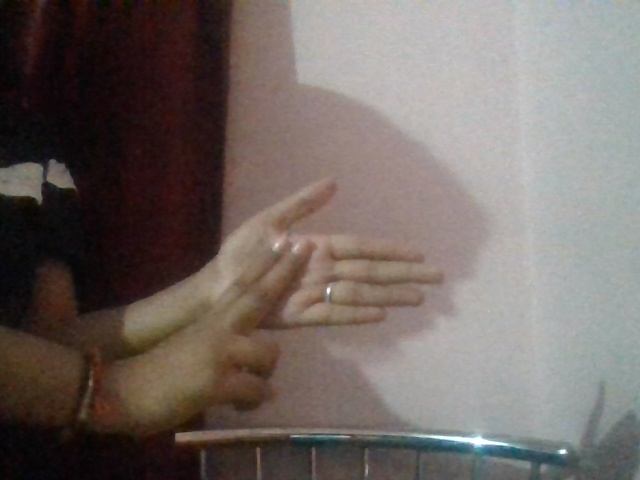N: (77, 176, 461, 421)
